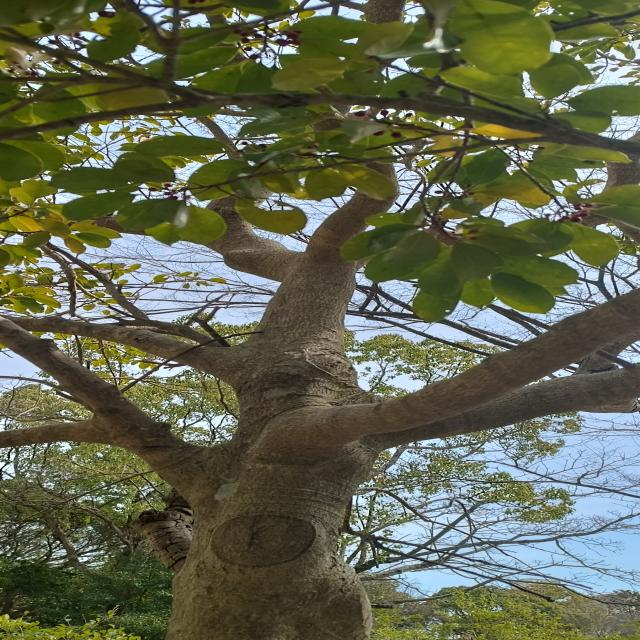Branch: (316, 288, 637, 443), (0, 316, 212, 513), (369, 365, 640, 449), (2, 316, 237, 387), (306, 114, 398, 257), (199, 163, 294, 282), (3, 419, 135, 449)
Twig: (0, 93, 640, 153), (200, 137, 554, 190), (374, 59, 559, 125)
